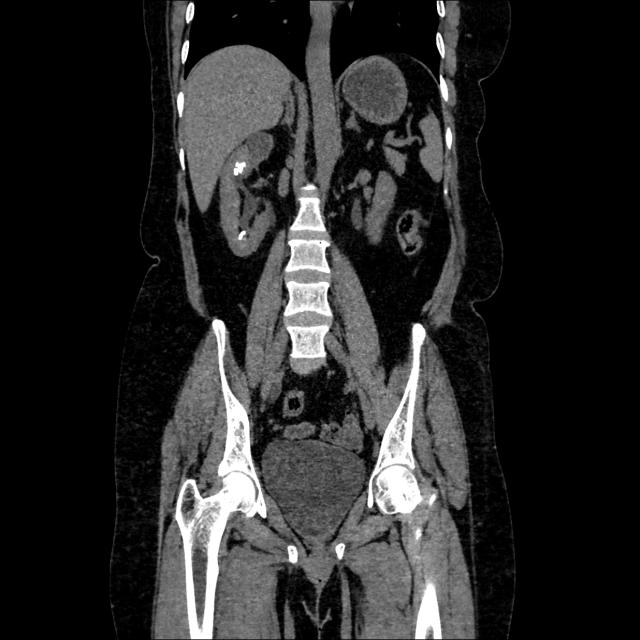kidney: (225, 140, 272, 256)
stone: (234, 161, 243, 175), (238, 232, 246, 240)
